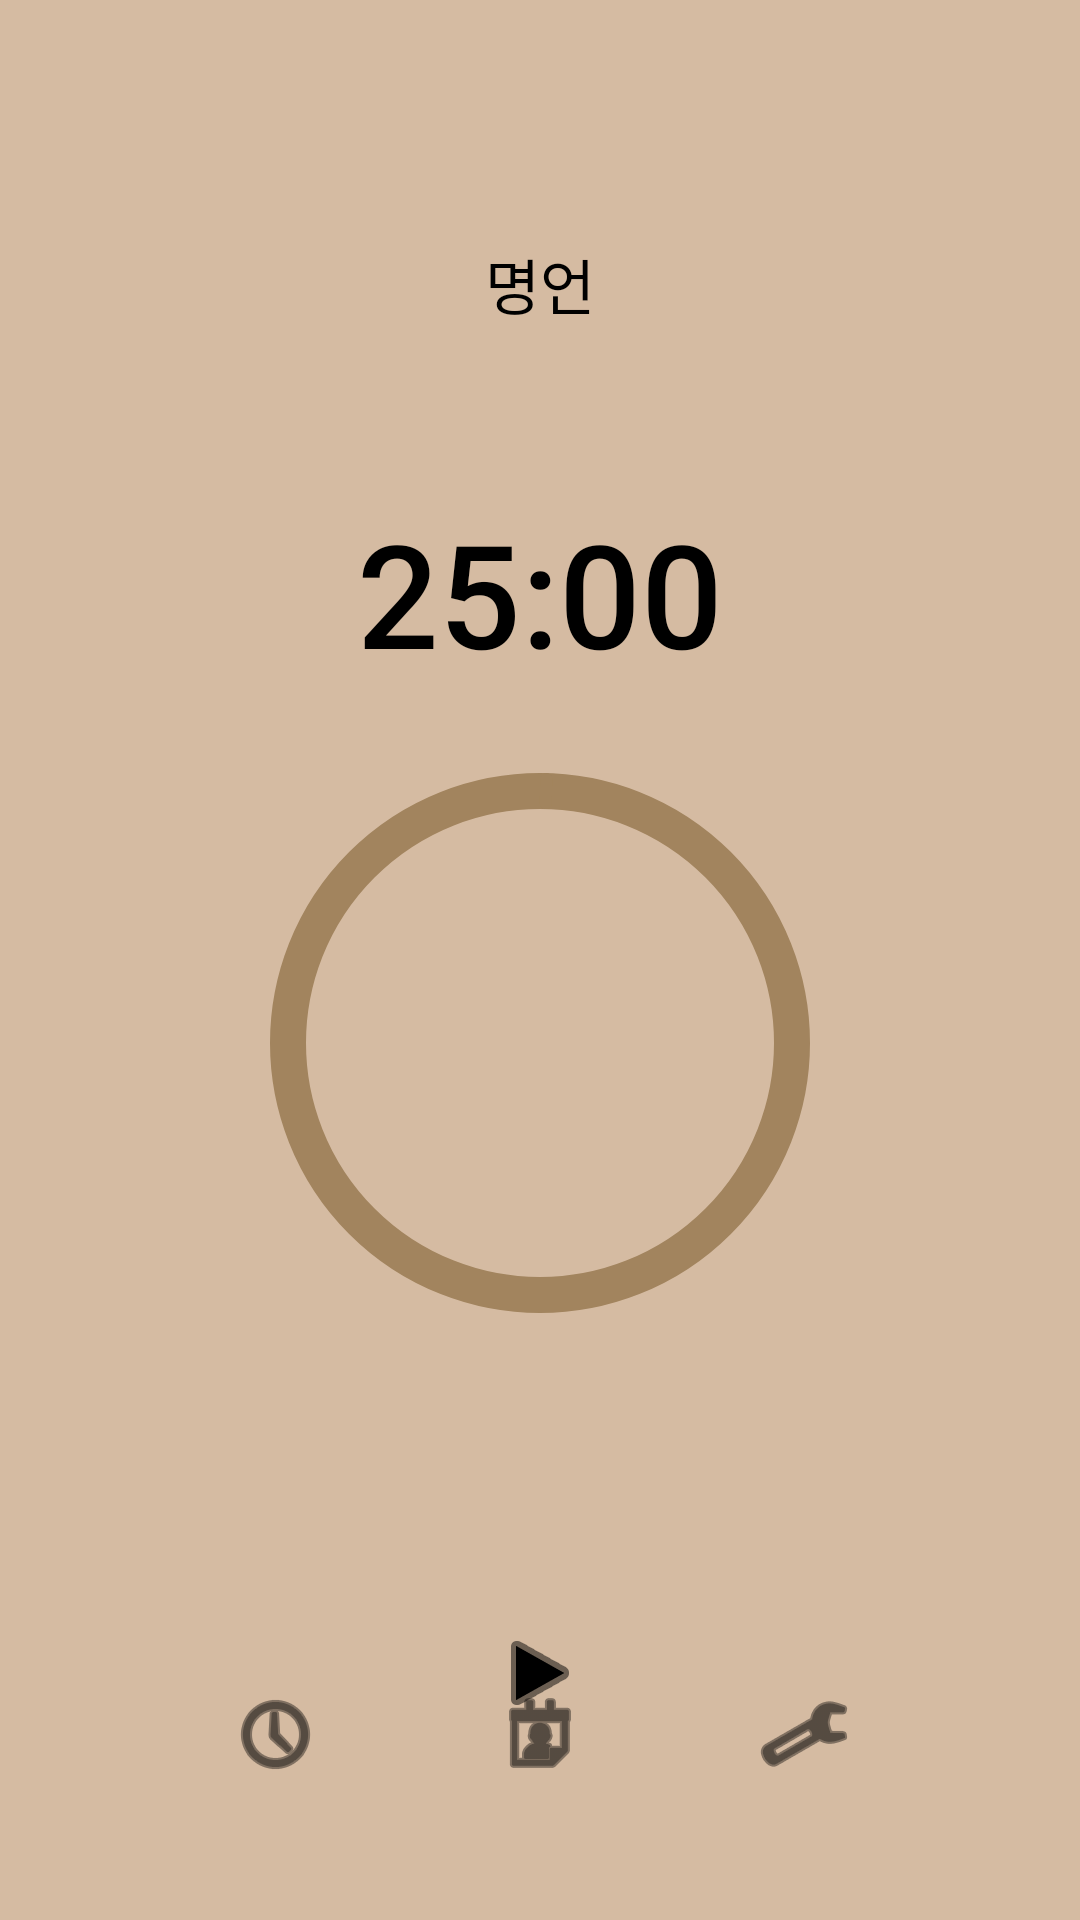

Where to tap for icons on this 1080x1920 app screen, as (x,y):
calendar: (540,1727)
manage: (804,1734)
play: (540,1681)
recent history: (275,1734)
